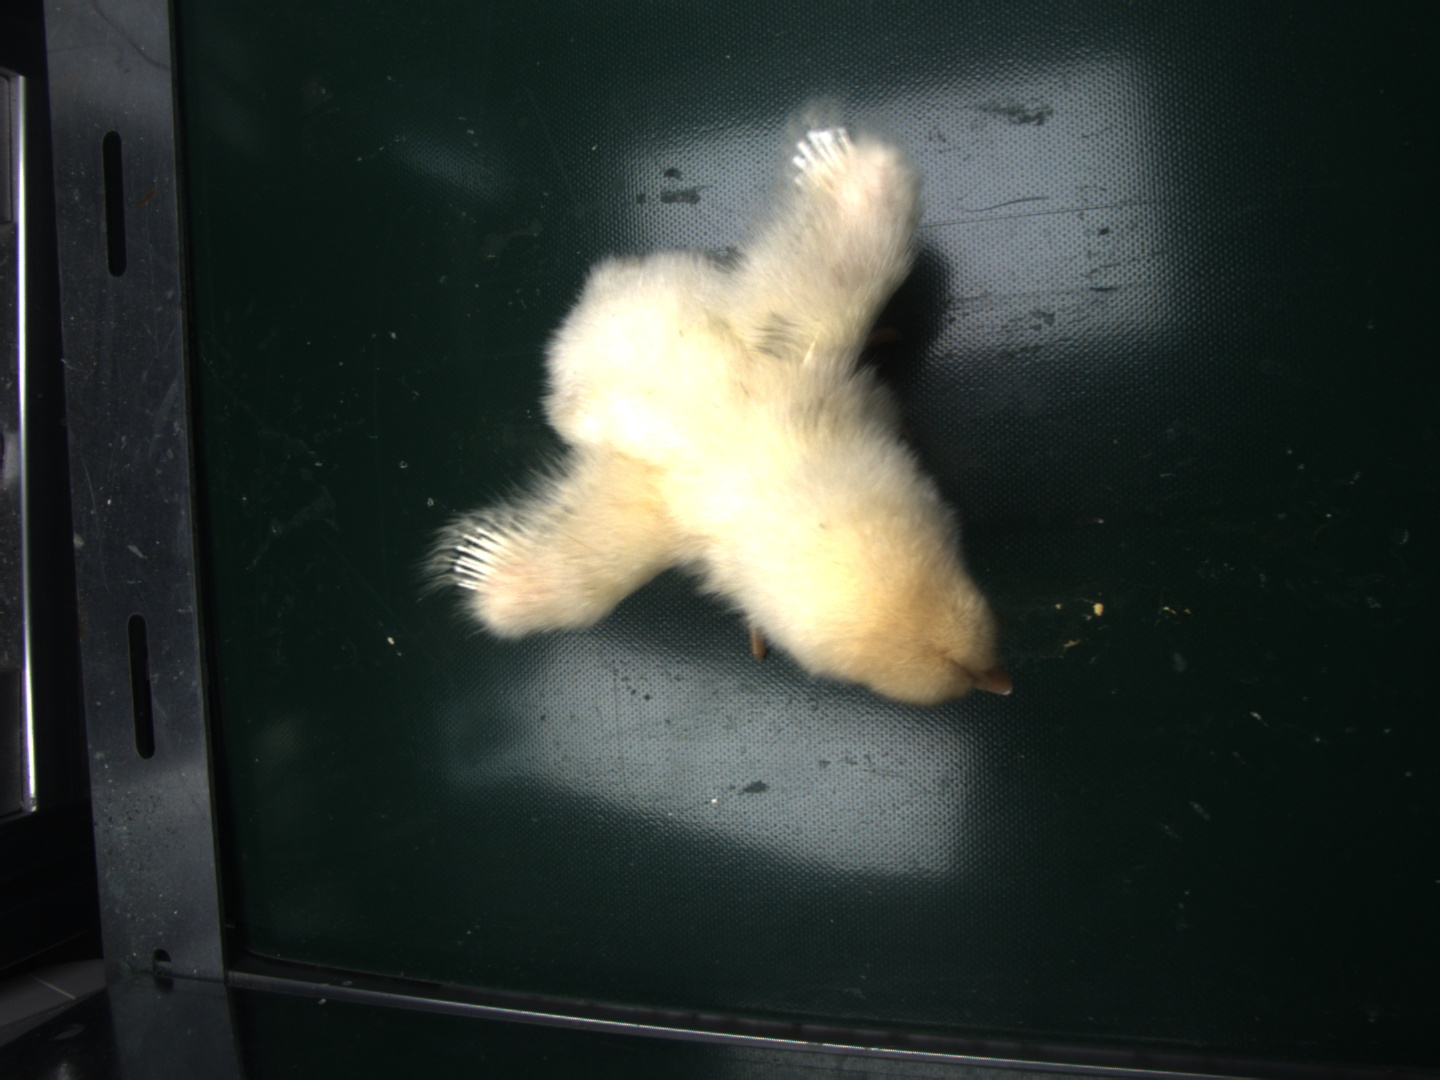male: (454, 515, 528, 591)
